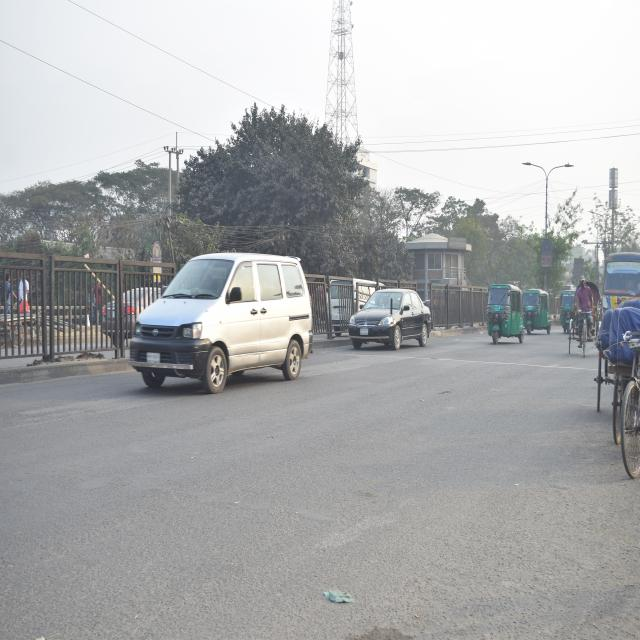bus: (600, 238, 640, 317)
car: (346, 282, 435, 358)
microbus: (127, 245, 317, 404)
